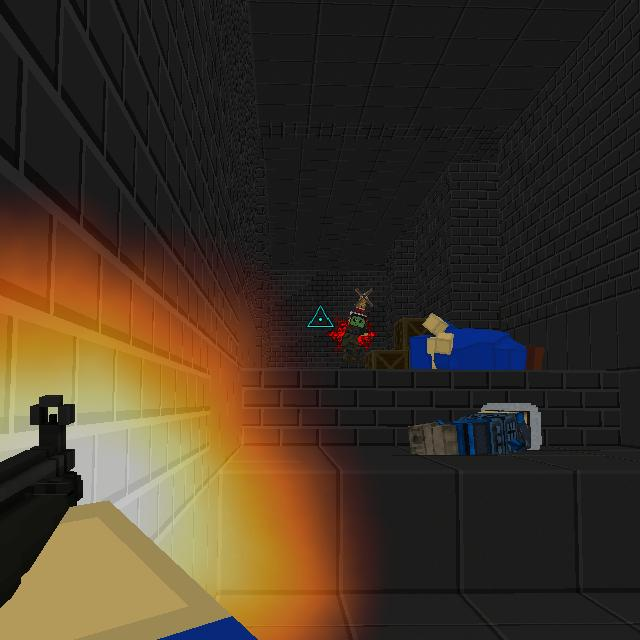enemy: (340, 288, 373, 364)
